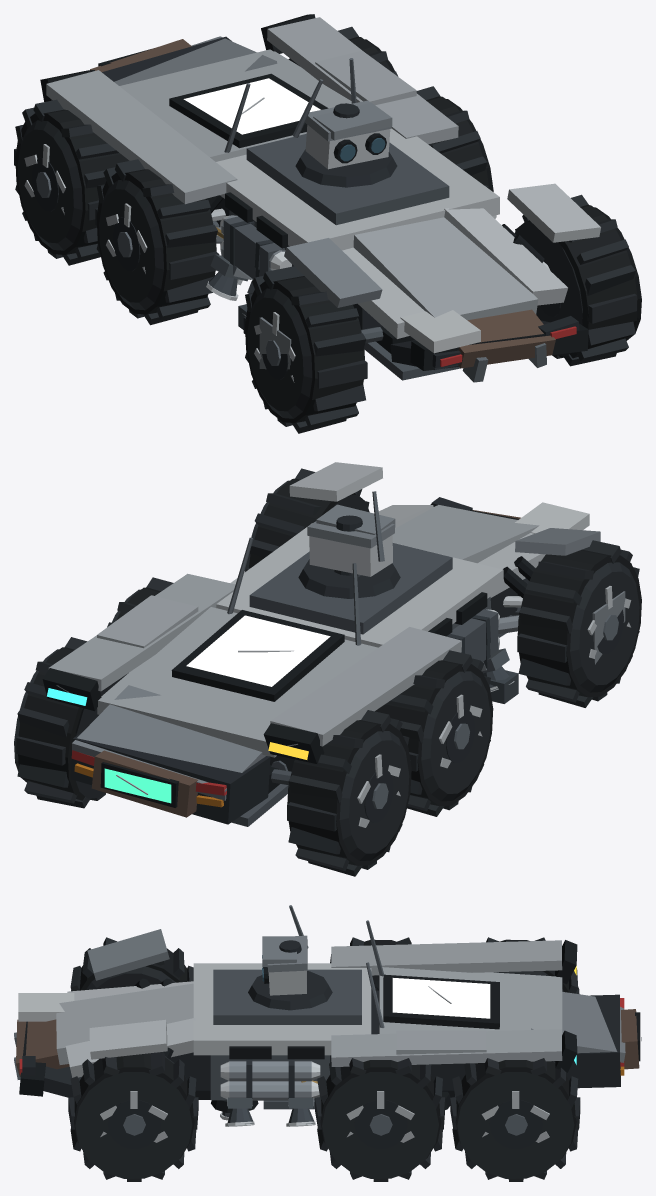
File: r47x_recon_rover_d1_lod0.meshopt.glb
The picture shows the model from 3 angles, top to bottom: view 1: azimuth 30°, elevation 25°; view 2: azimuth 150°, elevation 25°; view 3: azimuth 270°, elevation 25°; orthographic projection. The views are drawn at different scales.
Visible parts, largest first — view 1: ZONE_FRONT_BUMPER, CHASSIS_ARMOR_BODY, WHEEL_FL, WHEEL_ML, ZONE_FLANK_NEG_X, WHEEL_RL, WHEEL_FR, ZONE_FLANK_POS_X, ZONE_REAR_PANEL, DISPLAY_FDAI_TELEMETRY_PANEL, SENSOR_MAST_HEAD, DEBRIS_FENDER_POS_X (+7 smaller); view 2: CHASSIS_ARMOR_BODY, WHEEL_FL, ZONE_REAR_PANEL, WHEEL_RL, WHEEL_ML, ZONE_FLANK_NEG_X, ZONE_FRONT_BUMPER, WHEEL_RR, ZONE_FLANK_POS_X, DISPLAY_FDAI_TELEMETRY_PANEL, SENSOR_MAST_HEAD, WHEEL_FR (+10 smaller); view 3: CHASSIS_ARMOR_BODY, ZONE_FRONT_BUMPER, WHEEL_FR, WHEEL_RR, WHEEL_MR, ZONE_FLANK_POS_X, ZONE_FLANK_NEG_X, ZONE_REAR_PANEL, DISPLAY_FDAI_TELEMETRY_PANEL, WHEEL_FL, DEBRIS_FENDER_POS_X, SENSOR_MAST_HEAD (+6 smaller).
Boxes of the visible parts, x1,y1,x2,y2 form: ZONE_FRONT_BUMPER: (284,183,600,382); CHASSIS_ARMOR_BODY: (119,49,499,353); WHEEL_FL: (243,266,367,433); WHEEL_ML: (95,159,219,325); ZONE_FLANK_NEG_X: (40,70,293,279); WHEEL_RL: (14,99,129,265); WHEEL_FR: (515,194,641,366); ZONE_FLANK_POS_X: (261,14,496,218); ZONE_REAR_PANEL: (90,36,277,85); DISPLAY_FDAI_TELEMETRY_PANEL: (183,78,320,134); SENSOR_MAST_HEAD: (292,79,391,169); DEBRIS_FENDER_POS_X: (315,50,416,105); CHASSIS_ARMOR_BODY: (97,523,517,793); WHEEL_FL: (517,540,641,707); ZONE_REAR_PANEL: (70,685,288,826); WHEEL_RL: (287,710,411,876); WHEEL_ML: (375,650,493,816); ZONE_FLANK_NEG_X: (263,563,499,763); ZONE_FRONT_BUMPER: (289,462,600,637); WHEEL_RR: (14,637,128,808); ZONE_FLANK_POS_X: (42,537,253,711); DISPLAY_FDAI_TELEMETRY_PANEL: (186,615,330,686); SENSOR_MAST_HEAD: (307,491,394,577); WHEEL_FR: (244,468,369,572); CHASSIS_ARMOR_BODY: (170,963,562,1109); ZONE_FRONT_BUMPER: (14,929,195,1097); WHEEL_FR: (68,1052,198,1181); WHEEL_RR: (450,1058,580,1181); WHEEL_MR: (315,1058,444,1181); ZONE_FLANK_POS_X: (210,962,577,1112); ZONE_FLANK_NEG_X: (331,920,577,984); ZONE_REAR_PANEL: (455,992,640,1096); DISPLAY_FDAI_TELEMETRY_PANEL: (392,978,490,1018); WHEEL_FL: (70,937,193,991); DEBRIS_FENDER_POS_X: (396,1030,486,1054); SENSOR_MAST_HEAD: (262,905,308,995).
Size of the model in its own units: 2.44 by 1.68 by 4.74.
